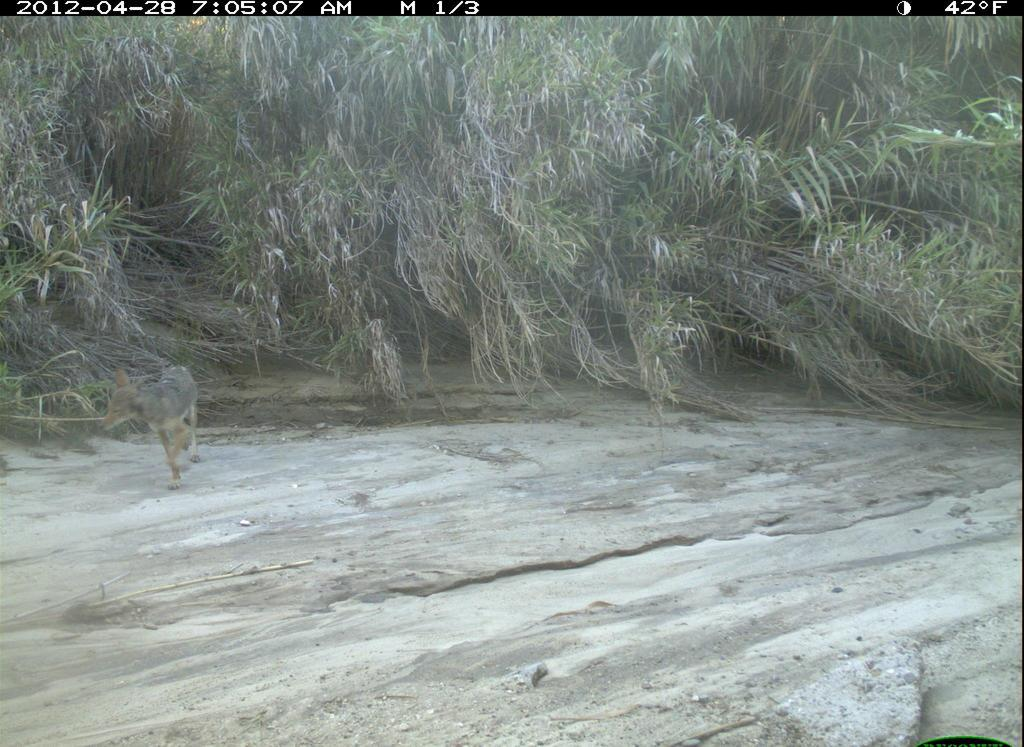coyote: (97, 361, 205, 495)
